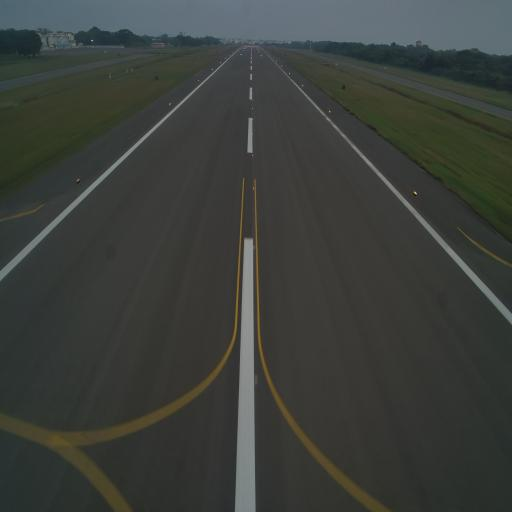on: (252, 368, 262, 389), (73, 172, 81, 188), (250, 241, 258, 252), (411, 187, 417, 199), (167, 99, 173, 108), (251, 182, 255, 195), (328, 108, 332, 114), (251, 150, 254, 156), (251, 130, 254, 136)
